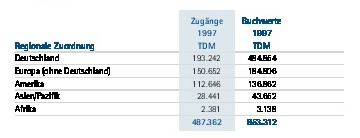table: (0, 0, 360, 138)
